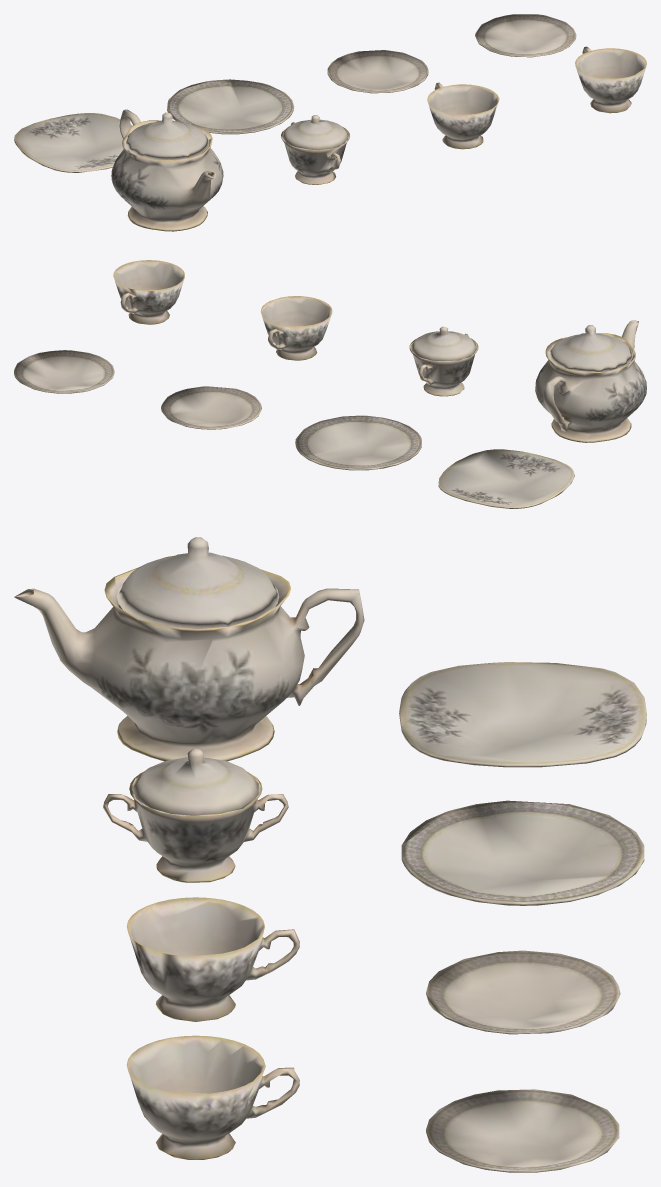
Rendered from tea_set_01.glb.
The picture shows the model from 3 angles, top to bottom: view 1: azimuth 30°, elevation 25°; view 2: azimuth 150°, elevation 25°; view 3: azimuth 270°, elevation 25°; orthographic projection. The views are drawn at different scales.
Parts seen in each view (by area): view 1: tea_set_01_plate_large_square_01; view 2: tea_set_01_plate_large_square_01; view 3: tea_set_01_plate_large_square_01.
Boxes of the visible parts, left/top/right/bottom form: tea_set_01_plate_large_square_01: left=14, top=14, right=646, bottom=231; tea_set_01_plate_large_square_01: left=14, top=260, right=646, bottom=508; tea_set_01_plate_large_square_01: left=14, top=537, right=646, bottom=1172.
Size of the model in its own units: 0.9173 by 0.1649 by 0.4836.
Materials: 1 (1 with a texture image).
